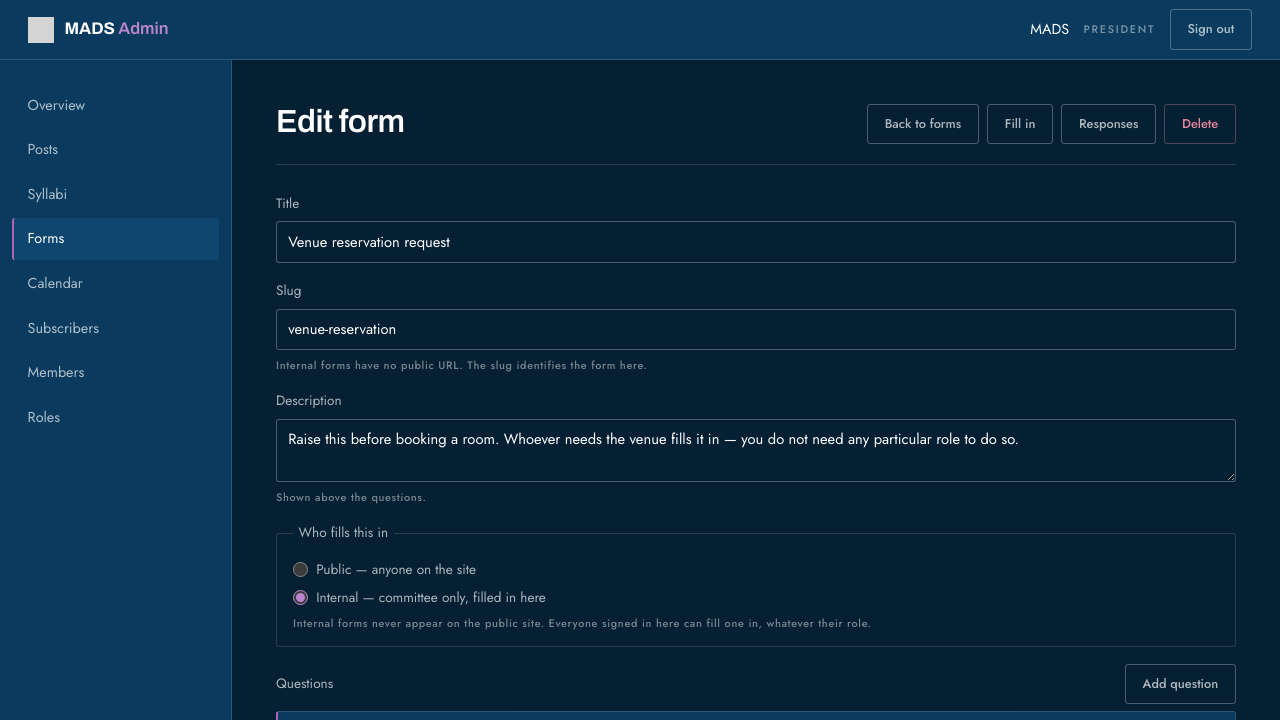
Test: FormEditor › shows the public URL only once the form is public
Check: the text "Internal forms have no public URL" is shown, box top-left (276, 356), bottom-right (647, 372)
Click the radio button labelled "Public — anyone on the site" at [301, 570], box top-left (293, 562), bottom-right (308, 577)
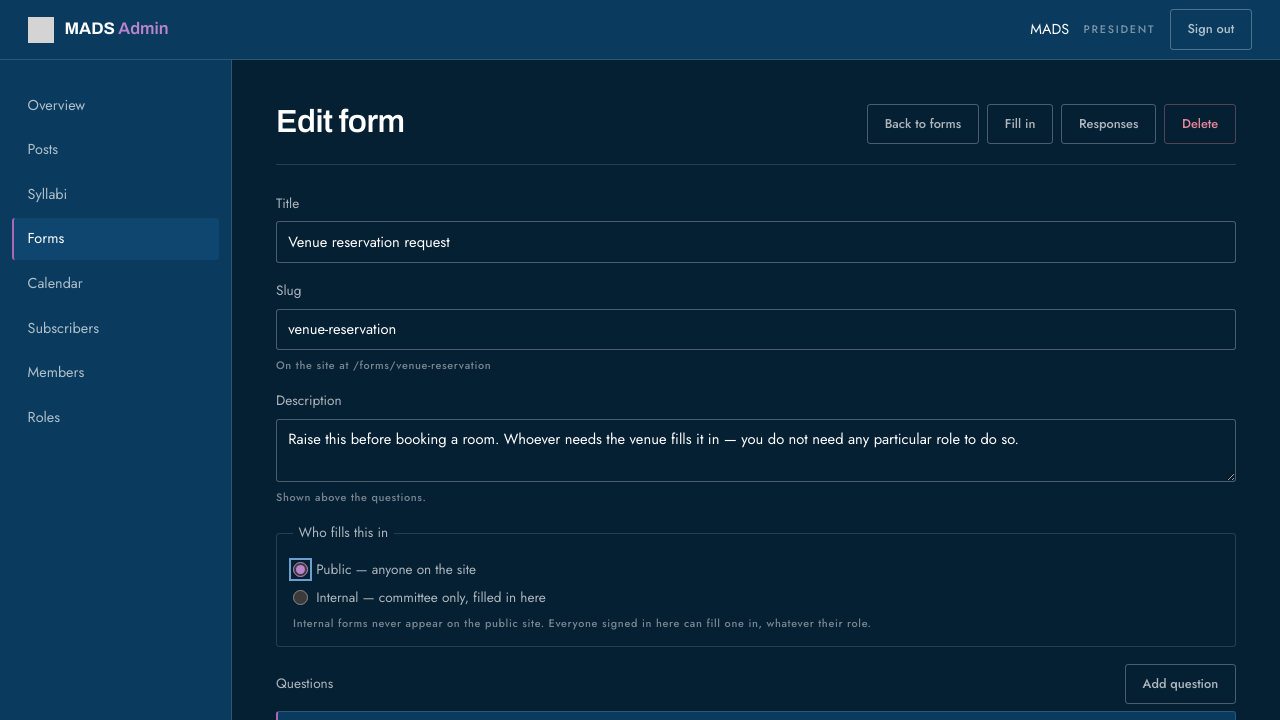
Check: the text "On the site at /forms/venue-reservation" is shown, box top-left (276, 356), bottom-right (491, 372)
